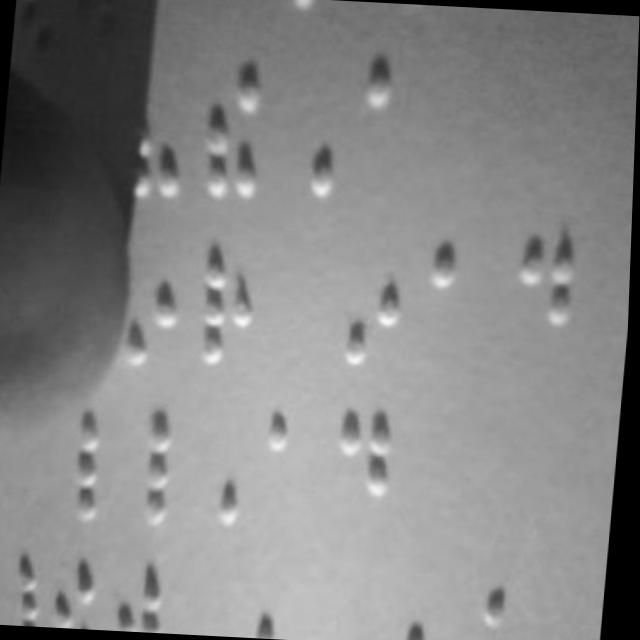braiile: (336, 236, 414, 377), (118, 66, 195, 207), (199, 67, 277, 204), (275, 66, 352, 199), (28, 407, 111, 525), (118, 244, 191, 375), (189, 248, 264, 371), (176, 415, 251, 532), (108, 411, 180, 528), (247, 572, 319, 640), (116, 566, 183, 634), (53, 560, 114, 630), (400, 579, 469, 640), (327, 584, 394, 640), (0, 560, 54, 628)
